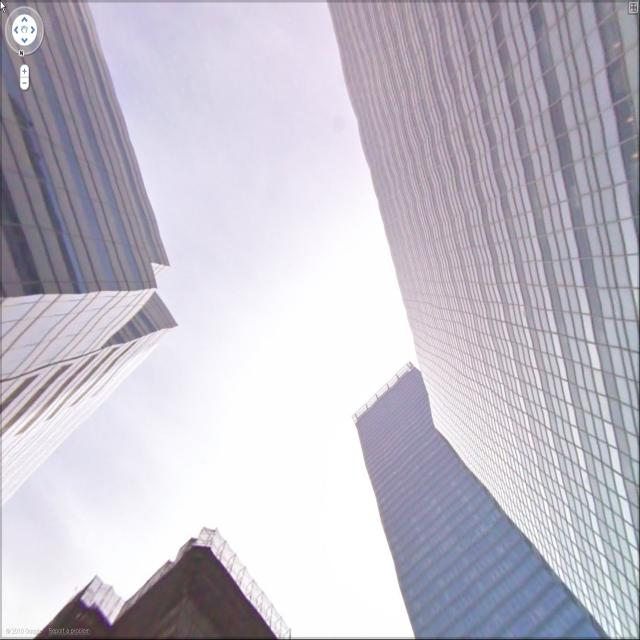b_1: (327, 5, 640, 522), (4, 4, 182, 416), (356, 363, 612, 640), (30, 503, 307, 640)
